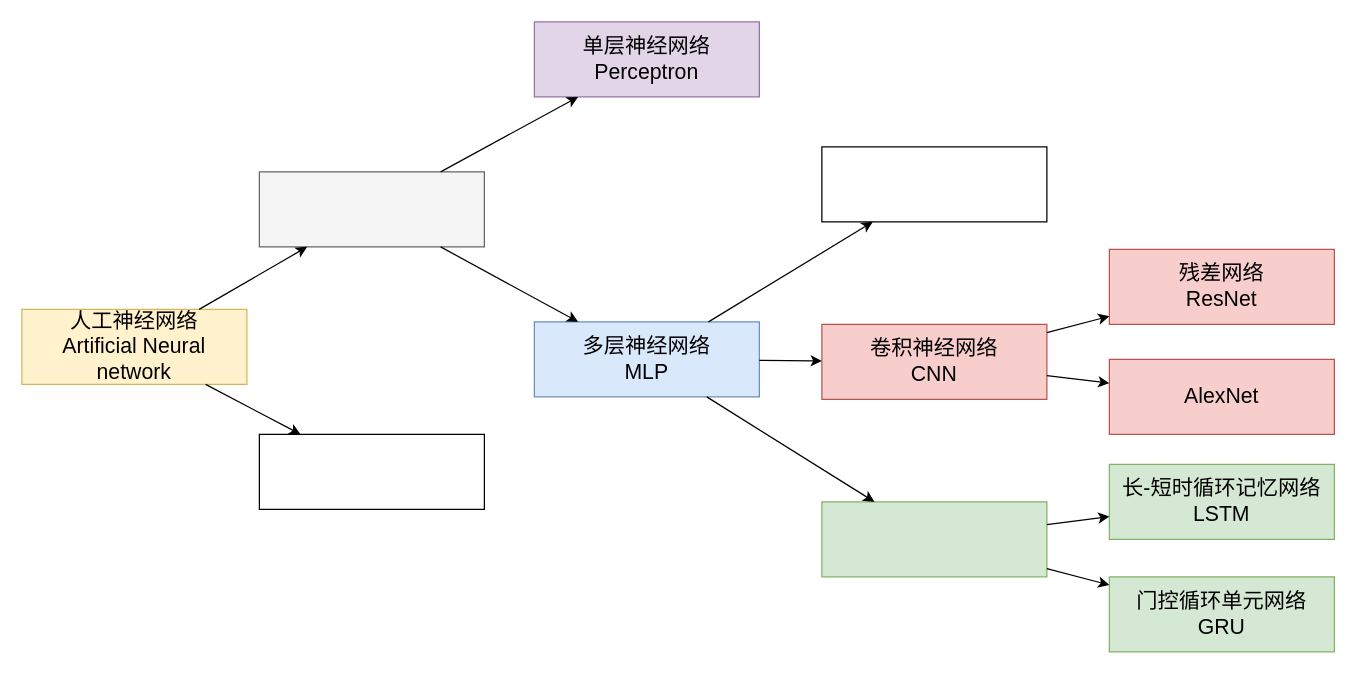
Some shapes in this 1356 by 674 pixel diagram are drawn without their labels. Here are the shapes that lost their labels. From the top down, the centre of each, then its label:
At [934,184]: "深度信念网络 DBN".
At [371,209]: "前馈神经网络".
At [371,471]: "反馈神经网络".
At [934,539]: "循环神经网络 RNN".
